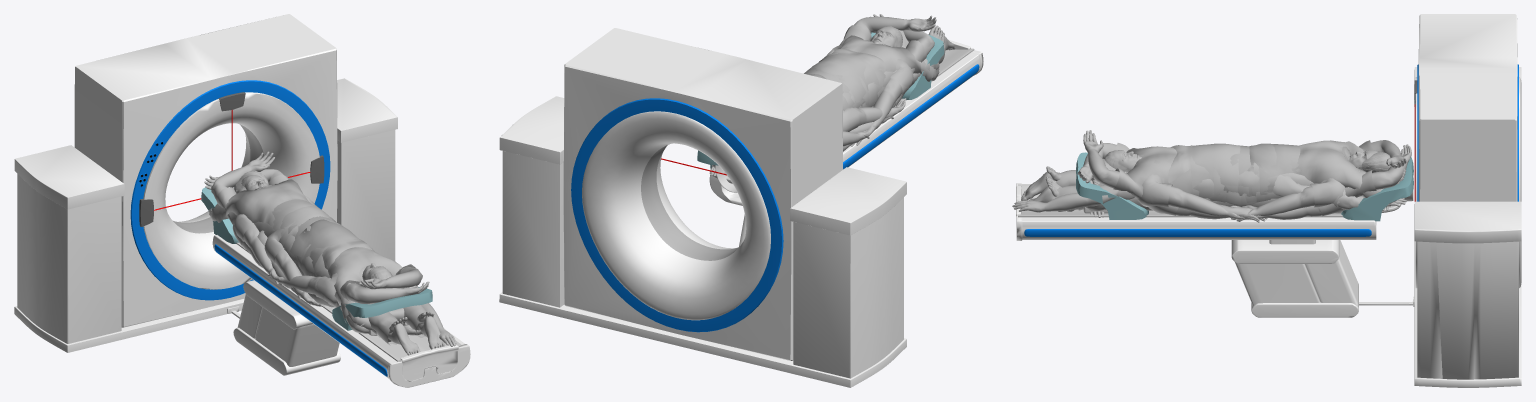
The model's file is Gordo.glb.
3 renders of one model, left to right at view 1: azimuth 30°, elevation 25°; view 2: azimuth 150°, elevation 25°; view 3: azimuth 270°, elevation 25°, orthographic. The views are drawn at different scales.
Visible parts, largest first — view 1: SM_MRI_tilt.001, SM_MRI_baseGRP_MRI, SM_MRI_bed_upDown.001, SM_MRI_bed_inOut.001, M1_scrubShirt_geo.007, M1_body_geo.010, M1_scrubShirt_geo.010, M1_scrubShirt_geo.004, M1_body_geo.006, M1_body_geo, SM_head_arm_rest1.001, M1_scrubShirt_geo (+11 smaller); view 2: SM_MRI_tilt.001, SM_MRI_baseGRP_MRI, SM_MRI_bed_upDown.001, M1_scrubShirt_geo.010, M1_body_geo.010, M1_scrubShirt_geo.004, SM_head_arm_rest1.001, M1_body_geo.003, M1_body_geo.006, M1_scrubShirt_geo.006, SM_MRI_bed_inOut.001, M1_scrubShirt_geo.005; view 3: SM_MRI_baseGRP_MRI, SM_MRI_tilt.001, SM_MRI_bed_upDown.001, M1_scrubShirt_geo.007, M1_scrubShirt_geo.010, M1_body_geo.010, M1_body_geo, SM_head_arm_rest1, SM_head_arm_rest1.001, M1_scrubShirt_geo.004, M1_scrubShirt_geo, M1_scrubShirt_geo.001 (+15 smaller).
Boxes of the visible parts, box(x1,y1,x2,y2) form: SM_MRI_tilt.001: box(74, 14, 337, 327); SM_MRI_baseGRP_MRI: box(14, 78, 397, 375); SM_MRI_bed_upDown.001: box(212, 235, 470, 387); SM_MRI_bed_inOut.001: box(236, 242, 461, 381); M1_scrubShirt_geo.007: box(214, 179, 334, 233); M1_body_geo.010: box(345, 263, 429, 303); M1_scrubShirt_geo.010: box(292, 219, 415, 300); M1_scrubShirt_geo.004: box(296, 247, 402, 322); M1_body_geo.006: box(274, 249, 444, 355); M1_body_geo: box(204, 151, 283, 199); SM_head_arm_rest1.001: box(332, 287, 432, 330); M1_scrubShirt_geo: box(216, 174, 333, 245); SM_MRI_tilt.001: box(563, 28, 843, 360); SM_MRI_baseGRP_MRI: box(499, 96, 906, 387); SM_MRI_bed_upDown.001: box(709, 50, 983, 205); M1_scrubShirt_geo.010: box(811, 25, 926, 107); M1_body_geo.010: box(854, 14, 936, 54); M1_scrubShirt_geo.004: box(840, 35, 933, 107); SM_head_arm_rest1.001: box(871, 32, 944, 100); M1_body_geo.003: box(864, 79, 902, 136); M1_body_geo.006: box(709, 36, 955, 176); M1_scrubShirt_geo.006: box(823, 53, 880, 131); SM_MRI_bed_inOut.001: box(899, 40, 974, 103); M1_scrubShirt_geo.005: box(843, 41, 913, 104); SM_MRI_baseGRP_MRI: box(1231, 67, 1521, 387); SM_MRI_tilt.001: box(1414, 14, 1521, 288); SM_MRI_bed_upDown.001: box(1016, 183, 1376, 244); M1_scrubShirt_geo.007: box(1253, 140, 1381, 202); M1_scrubShirt_geo.010: box(1113, 143, 1240, 198); M1_body_geo.010: box(1078, 130, 1405, 188); M1_body_geo: box(1090, 140, 1411, 189); SM_head_arm_rest1: box(1341, 157, 1413, 221); SM_head_arm_rest1.001: box(1076, 152, 1148, 219); M1_scrubShirt_geo.004: box(1107, 146, 1226, 211); M1_scrubShirt_geo: box(1249, 140, 1376, 197); M1_scrubShirt_geo.001: box(1259, 144, 1345, 216).
Bounding box in the file's own units: 2.3 × 1.53 × 2.97.
1 material, 1 textured.
